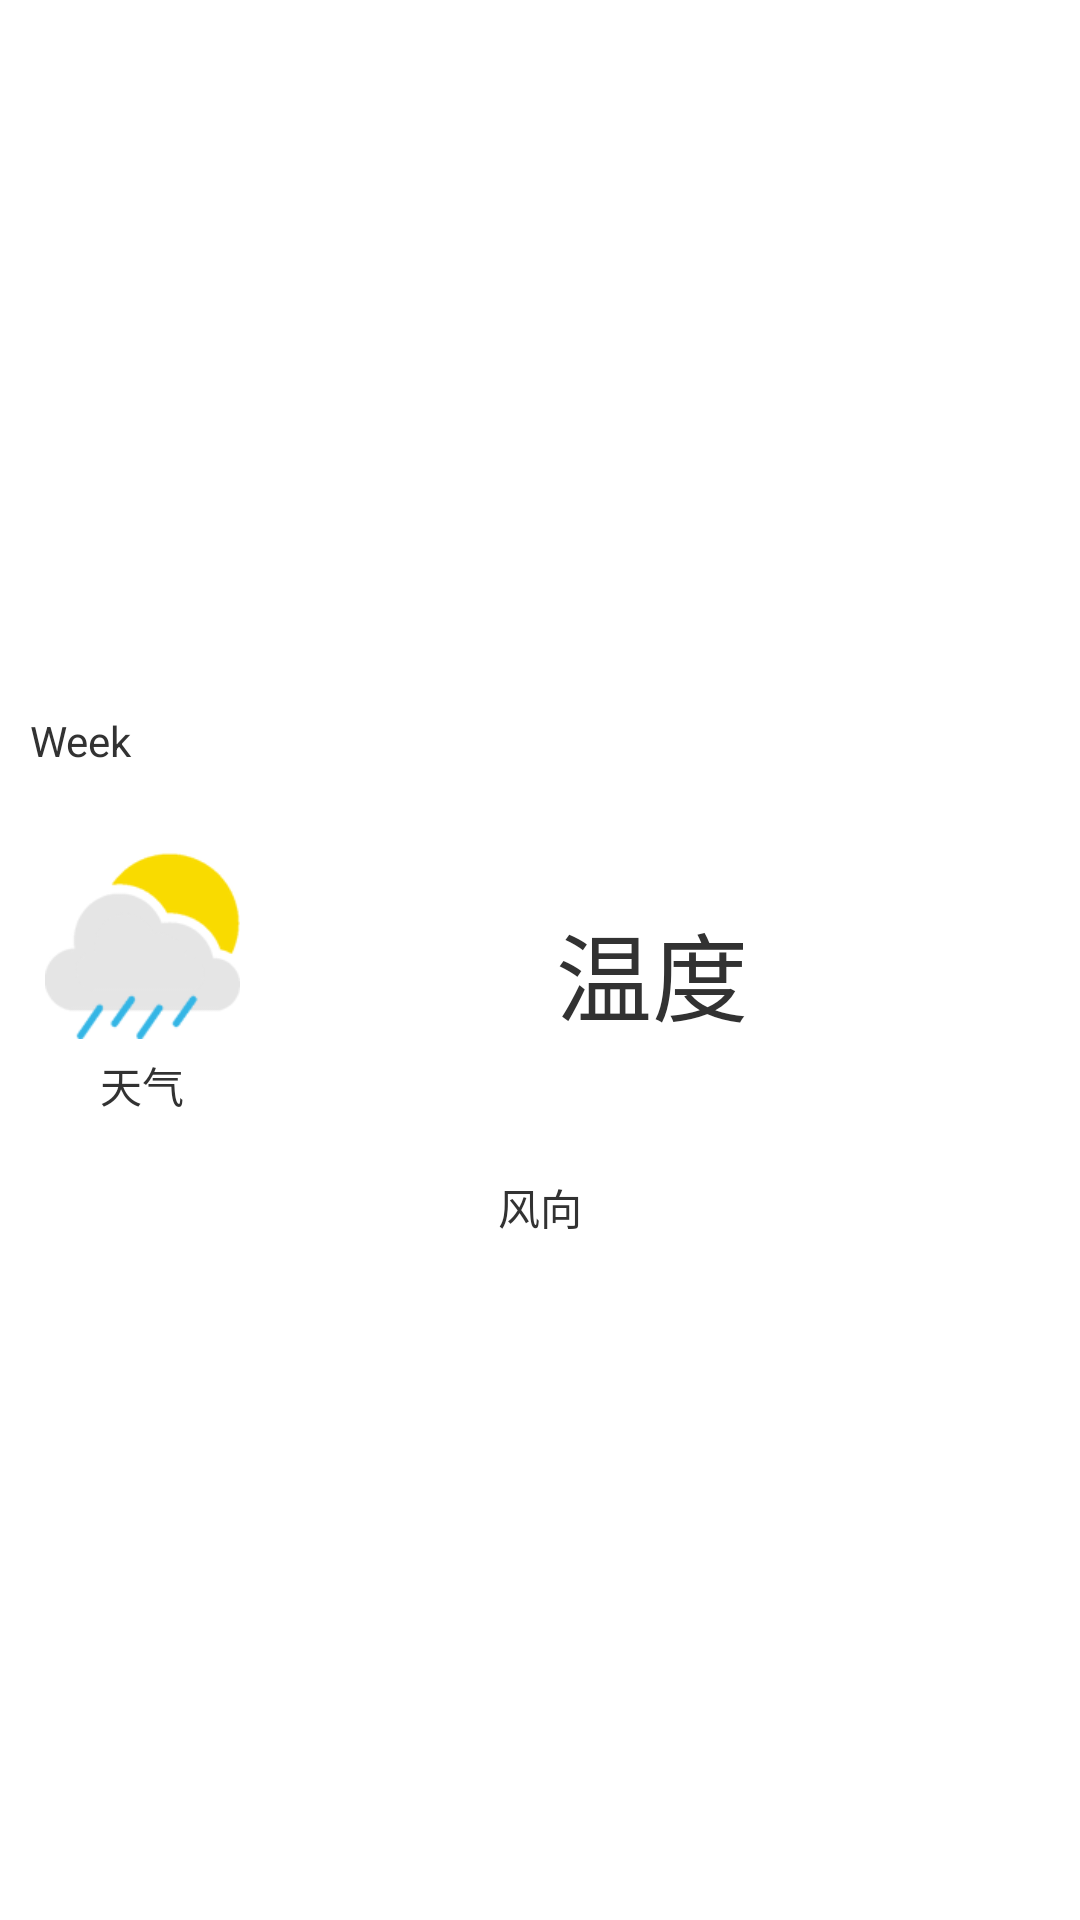

Screen size 1080px×1920px. Icon name, then its center in pixels as point (x, y):
weather chance of rain: point (142, 946)
